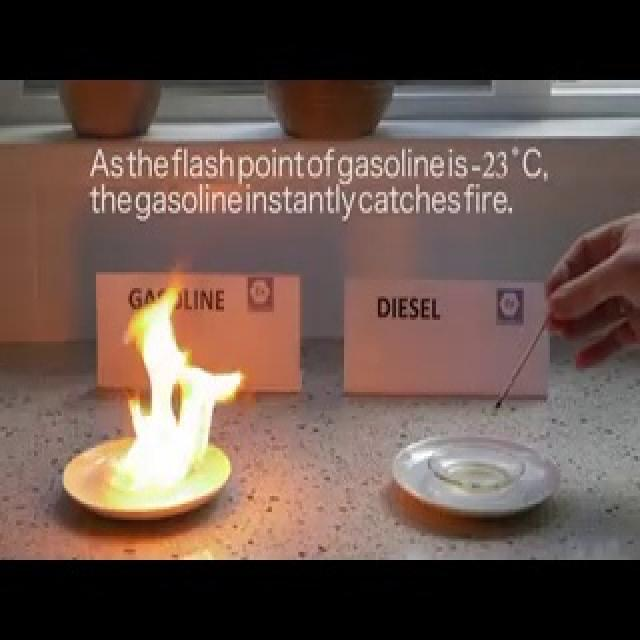fire: (122, 266, 249, 484)
